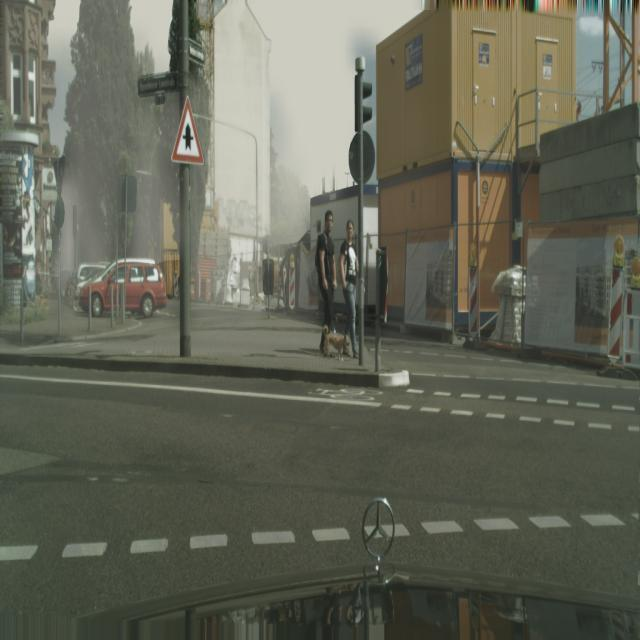bus: (316, 210, 338, 341), (338, 220, 359, 356)
person: (79, 259, 168, 319), (69, 262, 108, 310)
